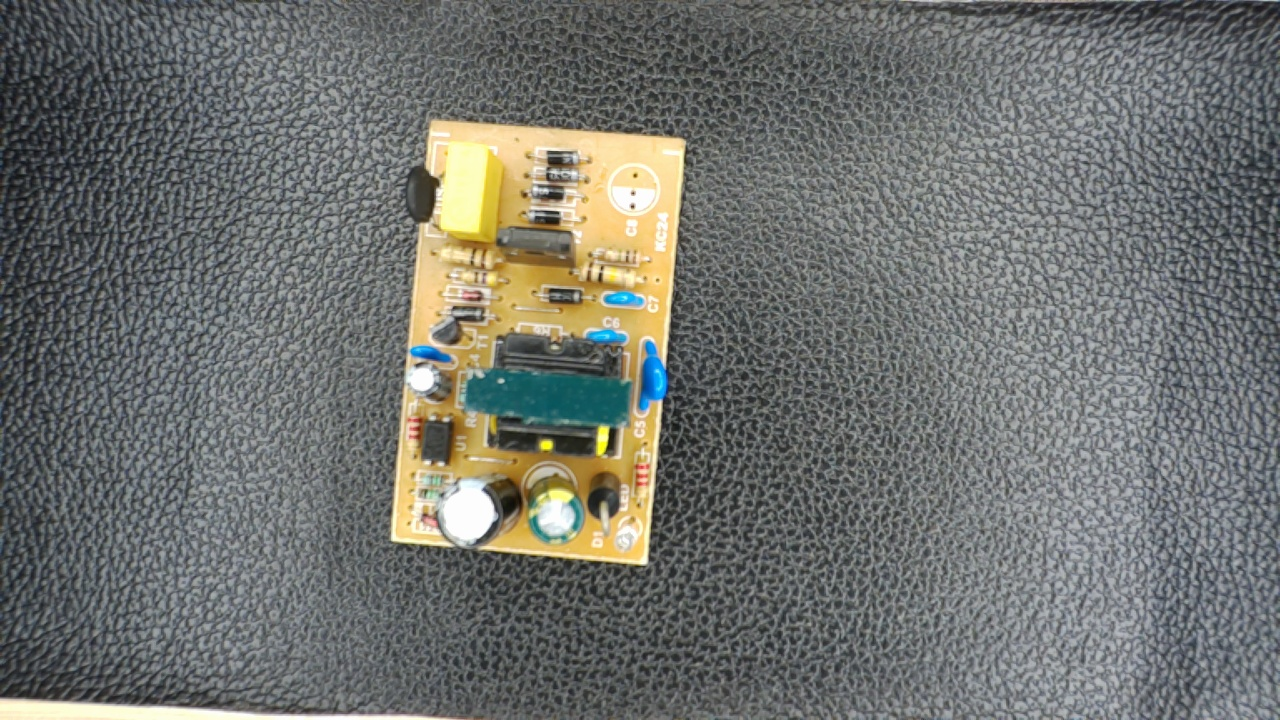fuse: (404, 147, 444, 236)
mov: (630, 330, 665, 425)
optocoupler: (416, 407, 461, 470)
